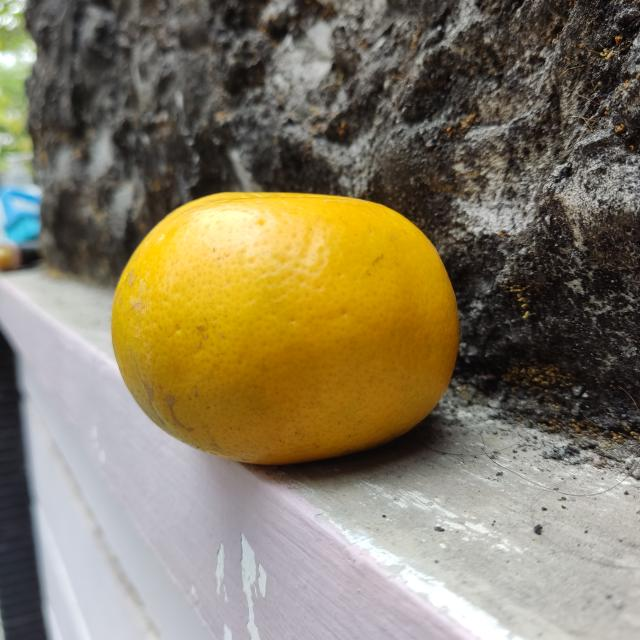orange: (103, 186, 463, 474)
